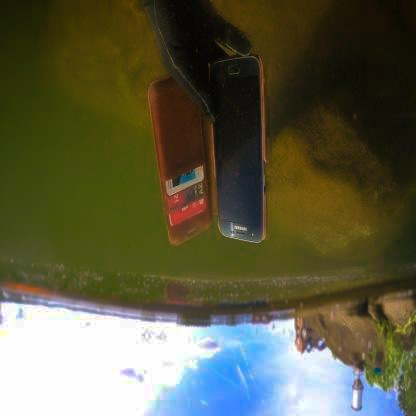cellphone: (208, 56, 266, 245)
